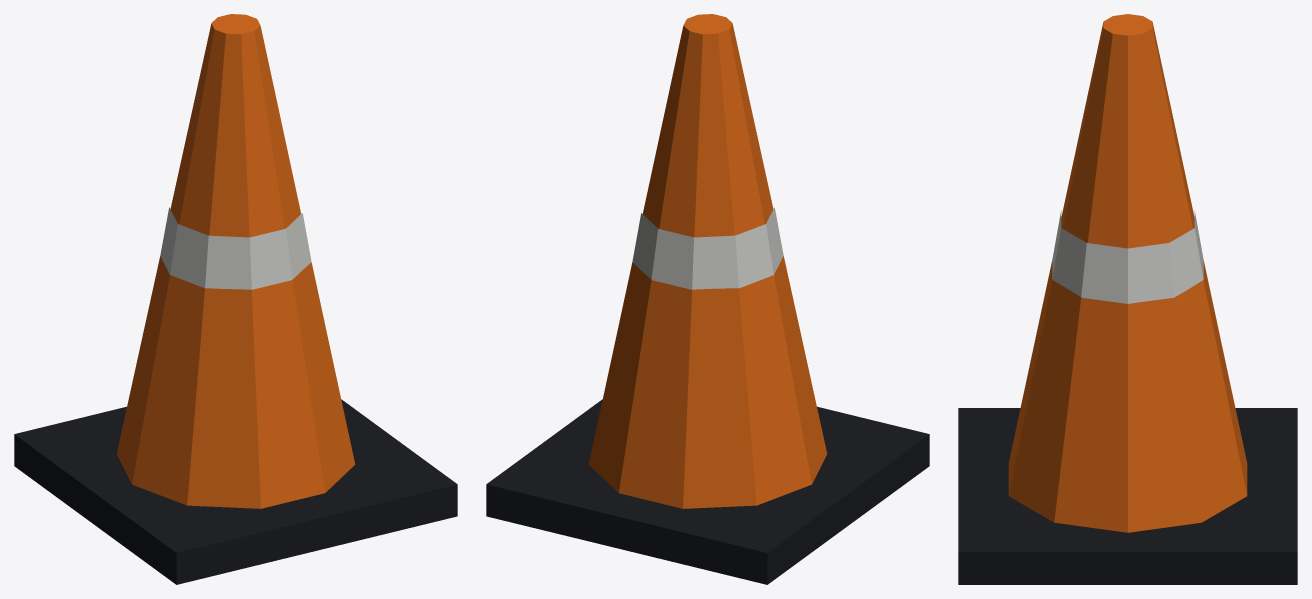
The model's file is sw_trk_cone.glb.
3 renders of one model, left to right at view 1: azimuth 30°, elevation 25°; view 2: azimuth 150°, elevation 25°; view 3: azimuth 270°, elevation 25°, orthographic. The views are drawn at different scales.
Parts seen in each view (by area): view 1: sw_trk_cone; view 2: sw_trk_cone; view 3: sw_trk_cone.
Boxes of the visible parts, x1,y1,x2,y2 form: sw_trk_cone: (14, 14, 457, 584); sw_trk_cone: (486, 14, 929, 584); sw_trk_cone: (958, 14, 1297, 584).
Size of the model in its own units: 0.46 by 0.73 by 0.46.
